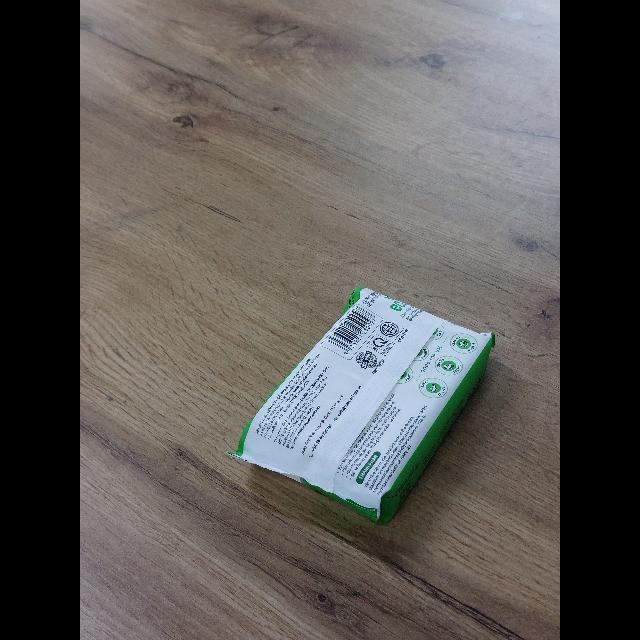khan_giay: (231, 288, 494, 522)
